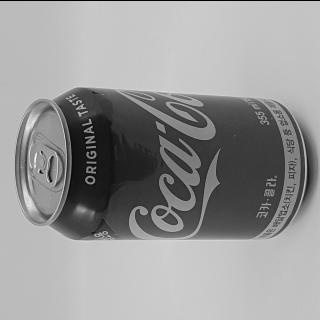alumunium_can: (13, 79, 320, 252)
